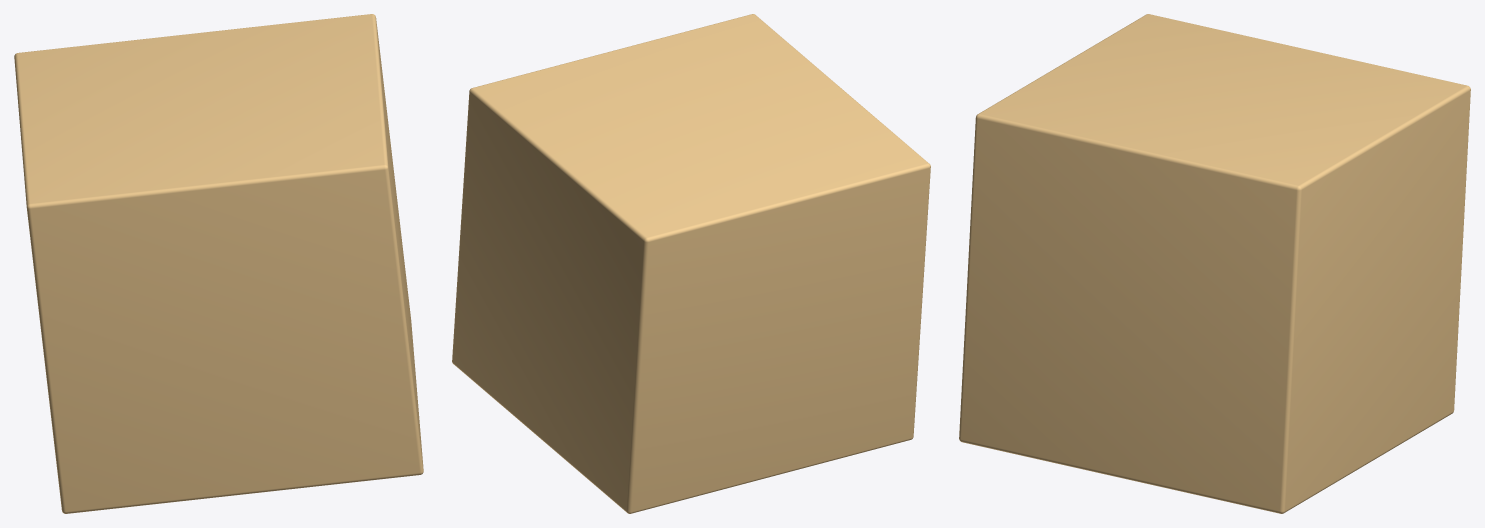
3 views of the same model, side by side, from view 1: azimuth 30°, elevation 25°; view 2: azimuth 150°, elevation 25°; view 3: azimuth 270°, elevation 25° (orthographic). The views are drawn at different scales.
Parts seen in each view (by area): view 1: WF_BumpCube; view 2: WF_BumpCube; view 3: WF_BumpCube.
Part boxes in pixels (bbox=[...]): WF_BumpCube: bbox=[14, 14, 423, 513]; WF_BumpCube: bbox=[452, 14, 930, 513]; WF_BumpCube: bbox=[959, 14, 1470, 513].
Size of the model in its own units: 2.85 by 2.09 by 2.77.
